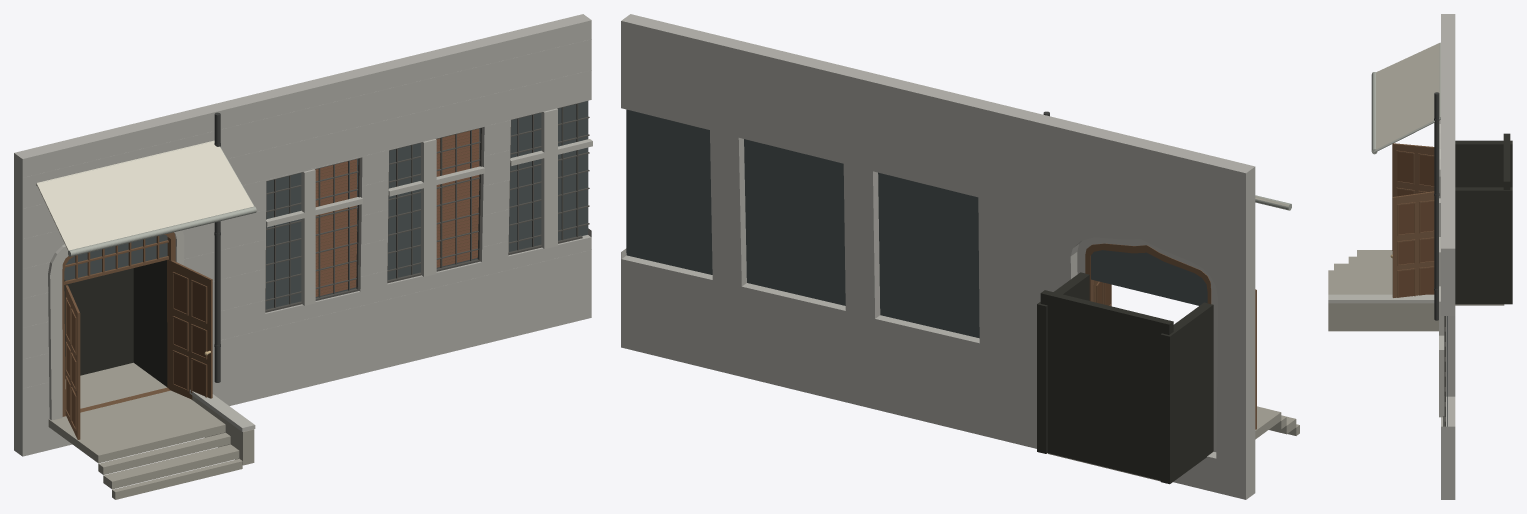
Rendered from full-side-entrance.glb.
3 views of the same model, side by side, from view 1: azimuth 30°, elevation 25°; view 2: azimuth 150°, elevation 25°; view 3: azimuth 270°, elevation 25° (orthographic). The views are drawn at different scales.
Parts seen in each view (by area): view 1: full-side-entrance; view 2: full-side-entrance; view 3: full-side-entrance.
Part boxes in pixels (left/top/right/bottom): full-side-entrance: left=14, top=14, right=592, bottom=499; full-side-entrance: left=621, top=14, right=1299, bottom=499; full-side-entrance: left=1328, top=14, right=1512, bottom=499.
Size of the model in its own units: 10.01 by 5.02 by 3.32.
